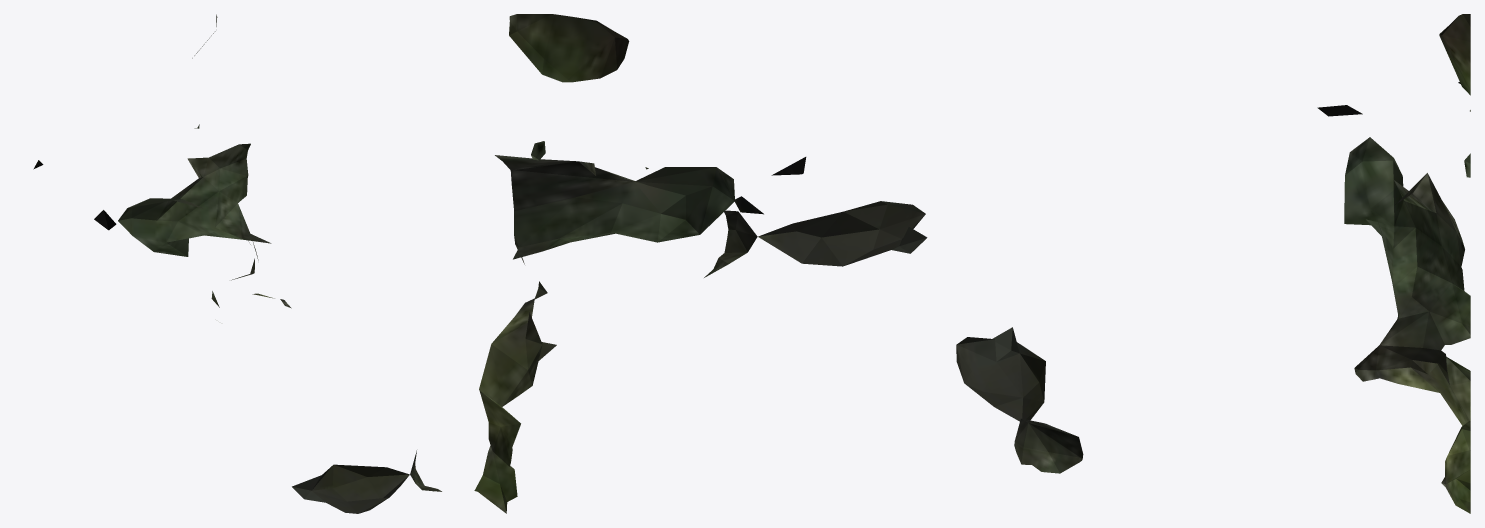
3 renders of one model, left to right at view 1: azimuth 30°, elevation 25°; view 2: azimuth 150°, elevation 25°; view 3: azimuth 270°, elevation 25°, orthographic. The views are drawn at different scales.
Size of the model in its own units: 4.02 by 6.61 by 6.88.
1 material, 1 textured.
